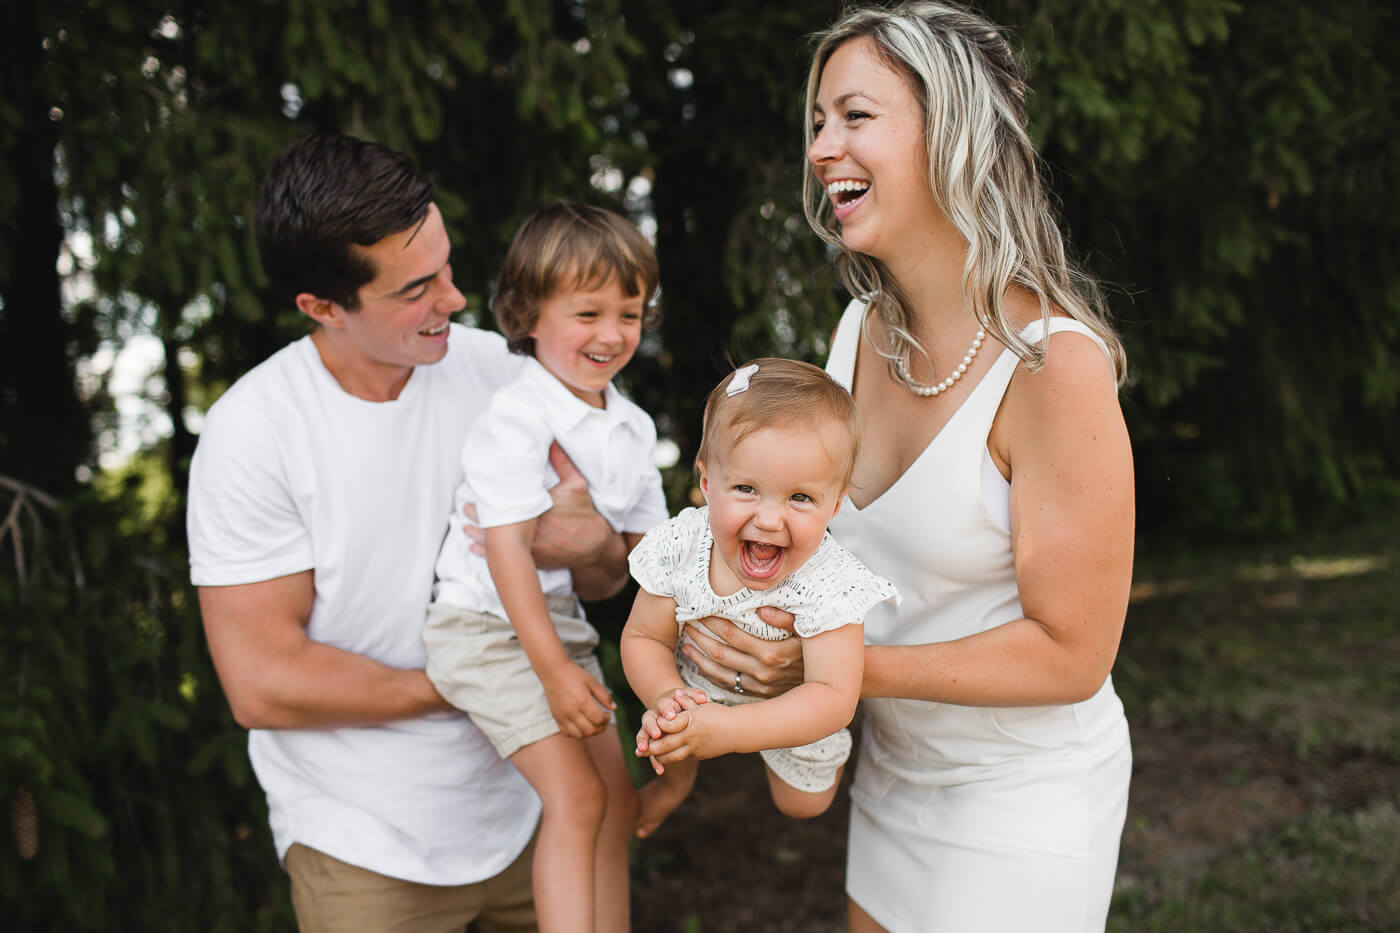without_mask: (792, 74, 935, 272), (348, 228, 473, 382), (715, 443, 824, 587), (540, 289, 666, 384)
